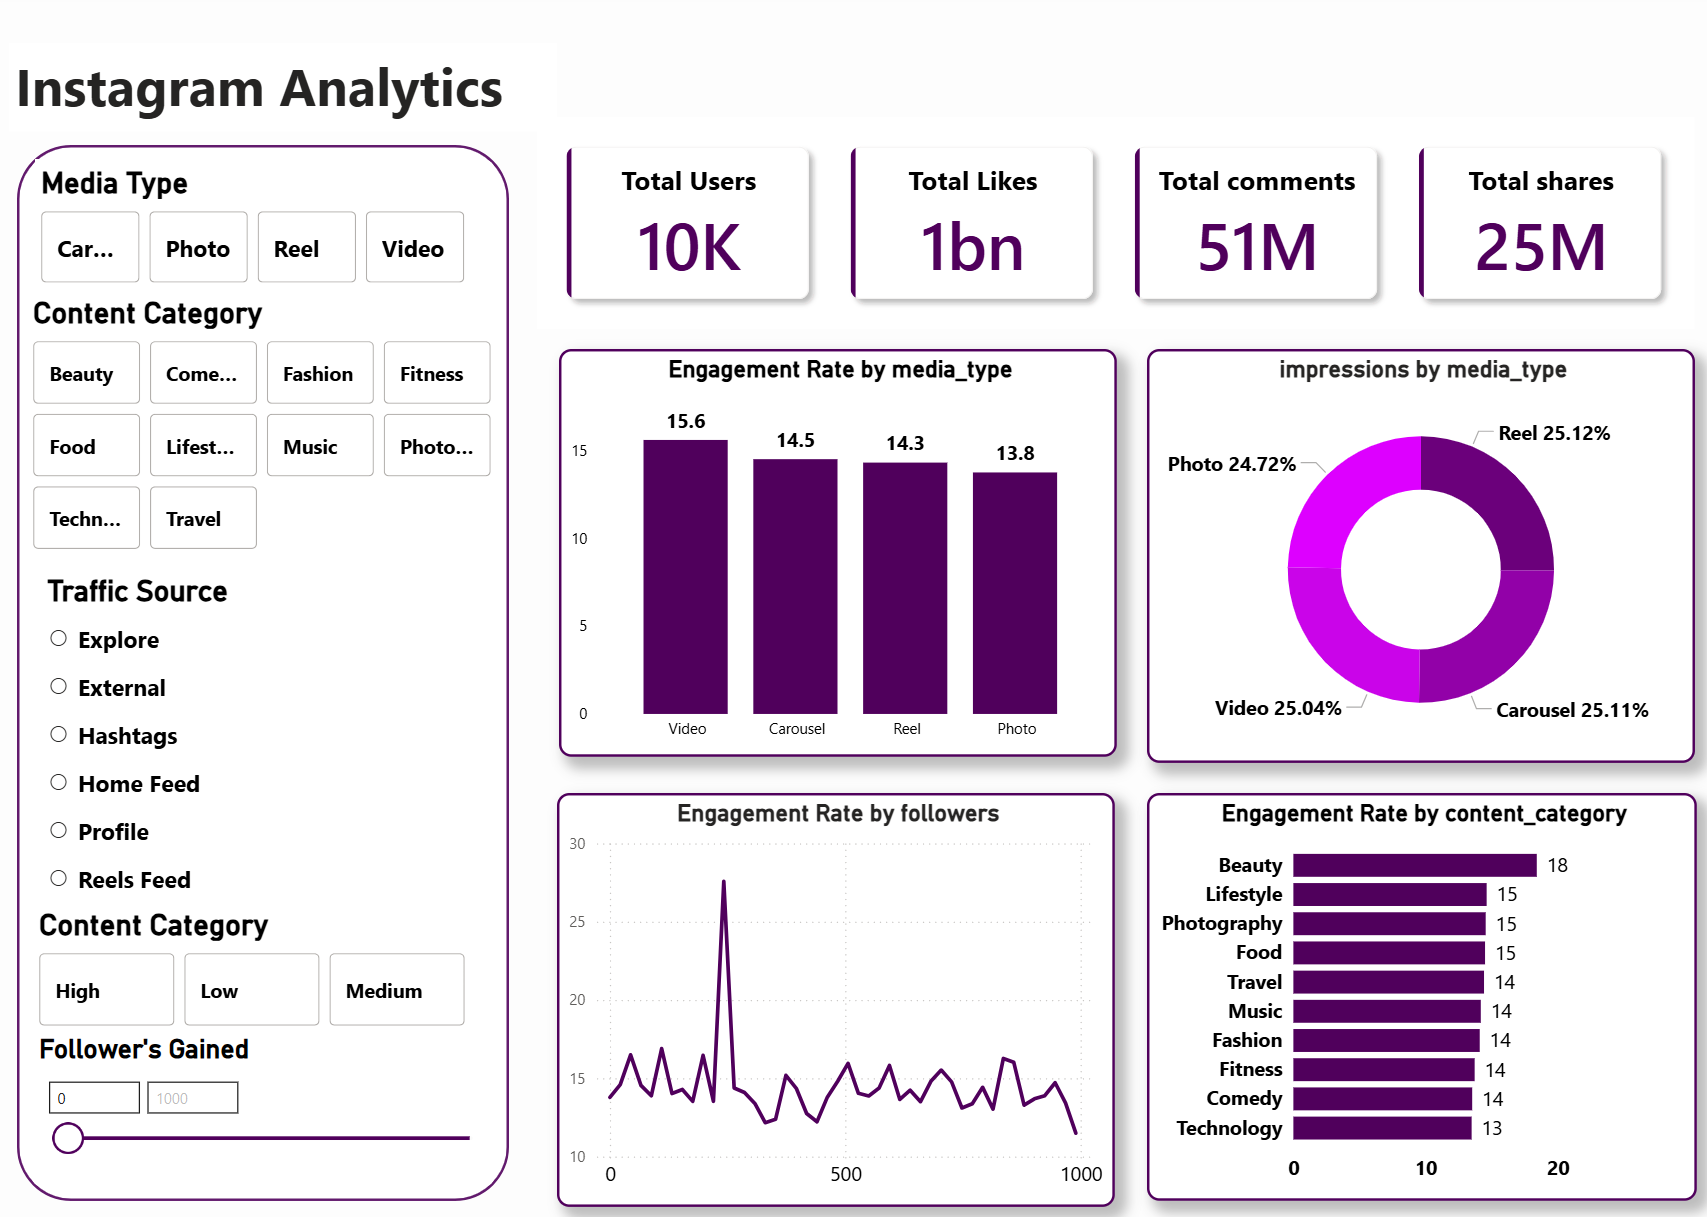

What the dashboard file says about the page in this screenshot:
{"tool":"powerbi","page":{"name":"Page 1","canvas":[1400,1000],"ordinal":0},"visuals":[{"type":"cardVisual","fields":{"Data":["public instagram.Number of Users","Sum(public instagram.likes)","Sum(public instagram.comments)","Sum(public instagram.shares)"]},"box":[443.8,102.2,941.1,172.5],"z":0},{"type":"clusteredBarChart","fields":{"Category":["public instagram.content_category"],"Y":["public instagram.Engagement Rate"]},"box":[939.5,651.4,447.1,331.6],"z":1000},{"type":"clusteredColumnChart","fields":{"Y":["public instagram.Engagement Rate"],"Category":["public instagram.media_type"]},"box":[461.8,291.1,453.7,331.7],"z":2000},{"type":"donutChart","title":"impressions by media_type","fields":{"Category":["public instagram.media_type"],"Y":["Sum(public instagram.impressions)"]},"box":[939.5,291.4,445.5,336.6],"z":3000},{"type":"lineChart","title":"Engagement Rate by followers ","fields":{"Y":["public instagram.Engagement Rate"],"Category":["public instagram.followers (bins)"]},"box":[460.2,652,453.7,336.6],"z":4000},{"type":"shape","box":[21.1,125.2,400,858.5],"z":5000},{"type":"textbox","box":[15.1,41.9,445.5,72],"z":6000},{"type":"advancedSlicerVisual","title":"Media Type","fields":{"Values":["public instagram.media_type"]},"box":[35.2,137.3,356.7,105.5],"z":7000},{"type":"advancedSlicerVisual","title":"Content Category","fields":{"Values":["public instagram.content_category"]},"box":[28.5,247.8,385.2,212.7],"z":8000},{"type":"listSlicer","title":"Traffic Source","fields":{"Values":["public instagram.traffic_source"]},"box":[40.2,473.9,313.2,271.3],"z":9000},{"type":"advancedSlicerVisual","title":"Content Category","fields":{"Values":["public instagram.Engagement Level"]},"box":[33.5,745.2,356.7,102.2],"z":10000},{"type":"slicer","title":"Follower''s Gained","fields":{"Values":["public instagram.followers"]},"box":[33.5,847.4,378.5,103.8],"z":11000}]}

Visuals, with their boxes in screenshot pixels (x1, y1, x2, y2), scaled from the page's 1400x1000 canvas onto the 1707x1217 screenshot:
cardVisual - public instagram.Number of Users x Sum(public instagram.likes): bbox(541, 124, 1689, 334)
clusteredBarChart - public instagram.content_category x public instagram.Engagement Rate: bbox(1146, 793, 1691, 1196)
clusteredColumnChart - public instagram.Engagement Rate x public instagram.media_type: bbox(563, 354, 1116, 758)
"impressions by media_type" donutChart: bbox(1146, 355, 1689, 764)
"Engagement Rate by followers " lineChart: bbox(561, 793, 1114, 1203)
shape: bbox(26, 152, 513, 1197)
textbox: bbox(18, 51, 562, 139)
"Media Type" advancedSlicerVisual: bbox(43, 167, 478, 295)
"Content Category" advancedSlicerVisual: bbox(35, 302, 504, 560)
"Traffic Source" listSlicer: bbox(49, 577, 431, 907)
"Content Category" advancedSlicerVisual: bbox(41, 907, 476, 1031)
"Follower''s Gained" slicer: bbox(41, 1031, 502, 1158)
